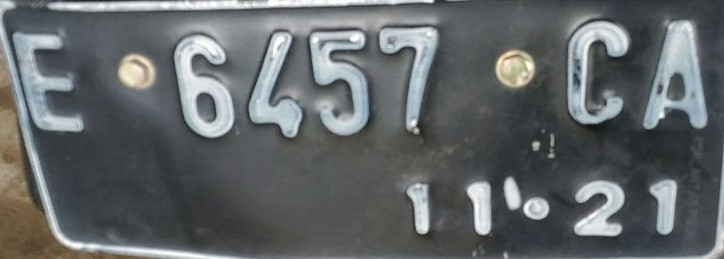plate: (2, 1, 724, 257)
